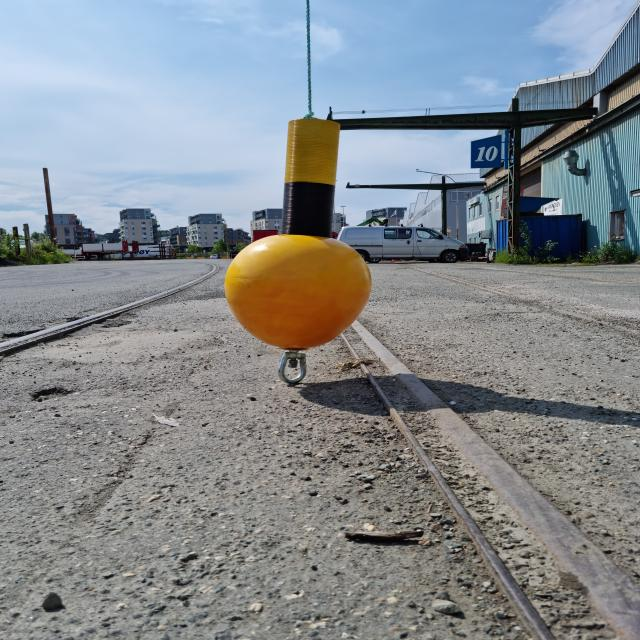west: (224, 118, 372, 350)
